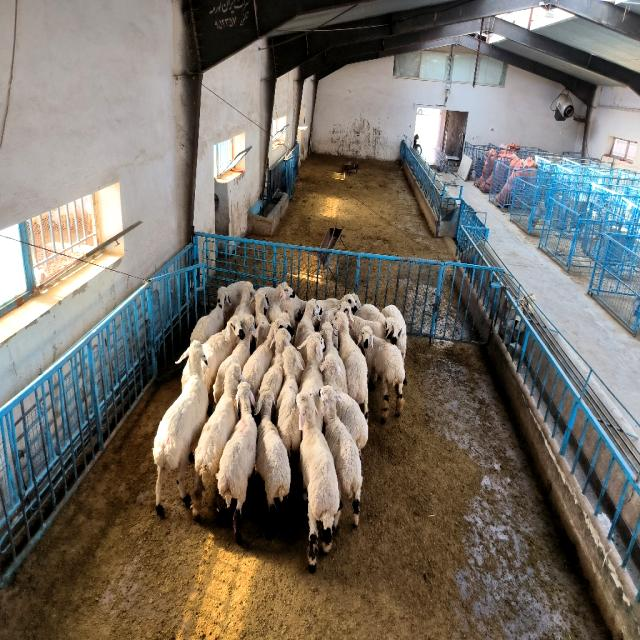sheep: (152, 340, 209, 514), (192, 363, 244, 520), (216, 382, 258, 544), (320, 385, 362, 526), (256, 390, 291, 512), (242, 318, 291, 398), (214, 313, 258, 402), (201, 317, 241, 402), (256, 328, 290, 414), (181, 363, 190, 388)
